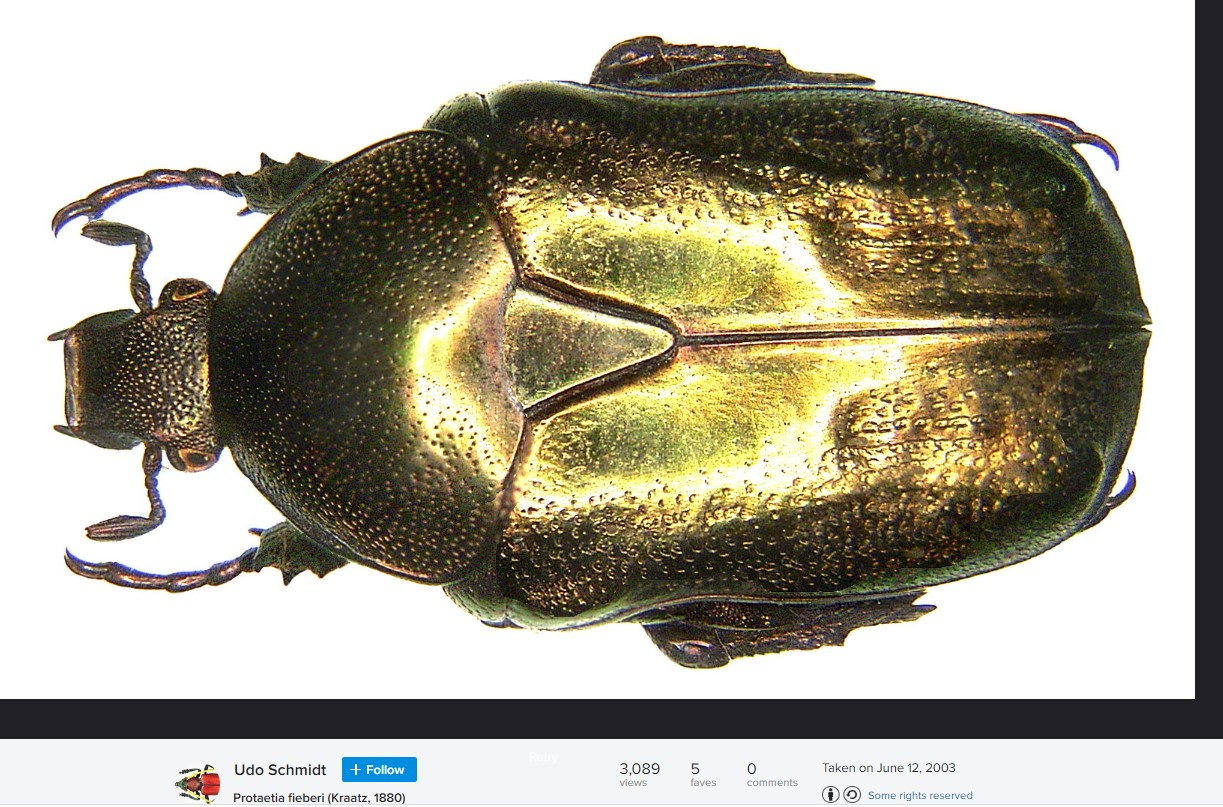Protaetia_fieberi: (42, 33, 1153, 668)
